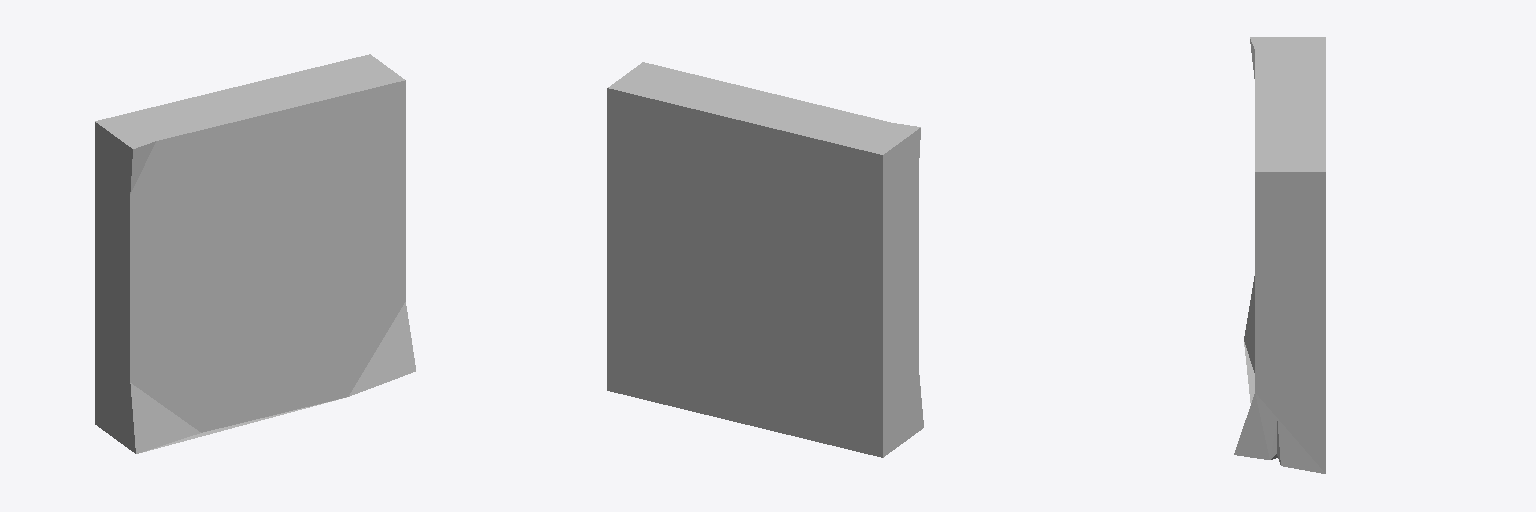
Rendered from Sticky_Note.obj.
3 views of the same model, side by side, from view 1: azimuth 30°, elevation 25°; view 2: azimuth 150°, elevation 25°; view 3: azimuth 270°, elevation 25° (orthographic).
Parts seen in each view (by area): view 1: Sticky_Note; view 2: Sticky_Note; view 3: Sticky_Note.
Boxes of the visible parts, x1=… form: Sticky_Note: x1=95, y1=54, x2=415, y2=453; Sticky_Note: x1=607, y1=62, x2=923, y2=457; Sticky_Note: x1=1234, y1=37, x2=1325, y2=473.
Bounding box in the file's own units: 0.1101 × 0.1154 × 0.032.